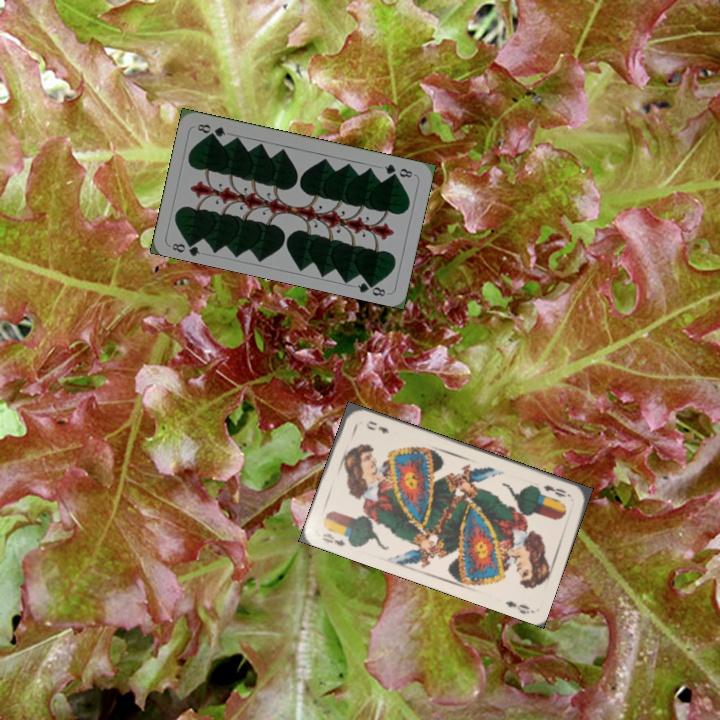EO: (318, 529, 356, 549), (539, 481, 573, 500)
G8: (168, 236, 202, 258), (380, 160, 417, 180)
